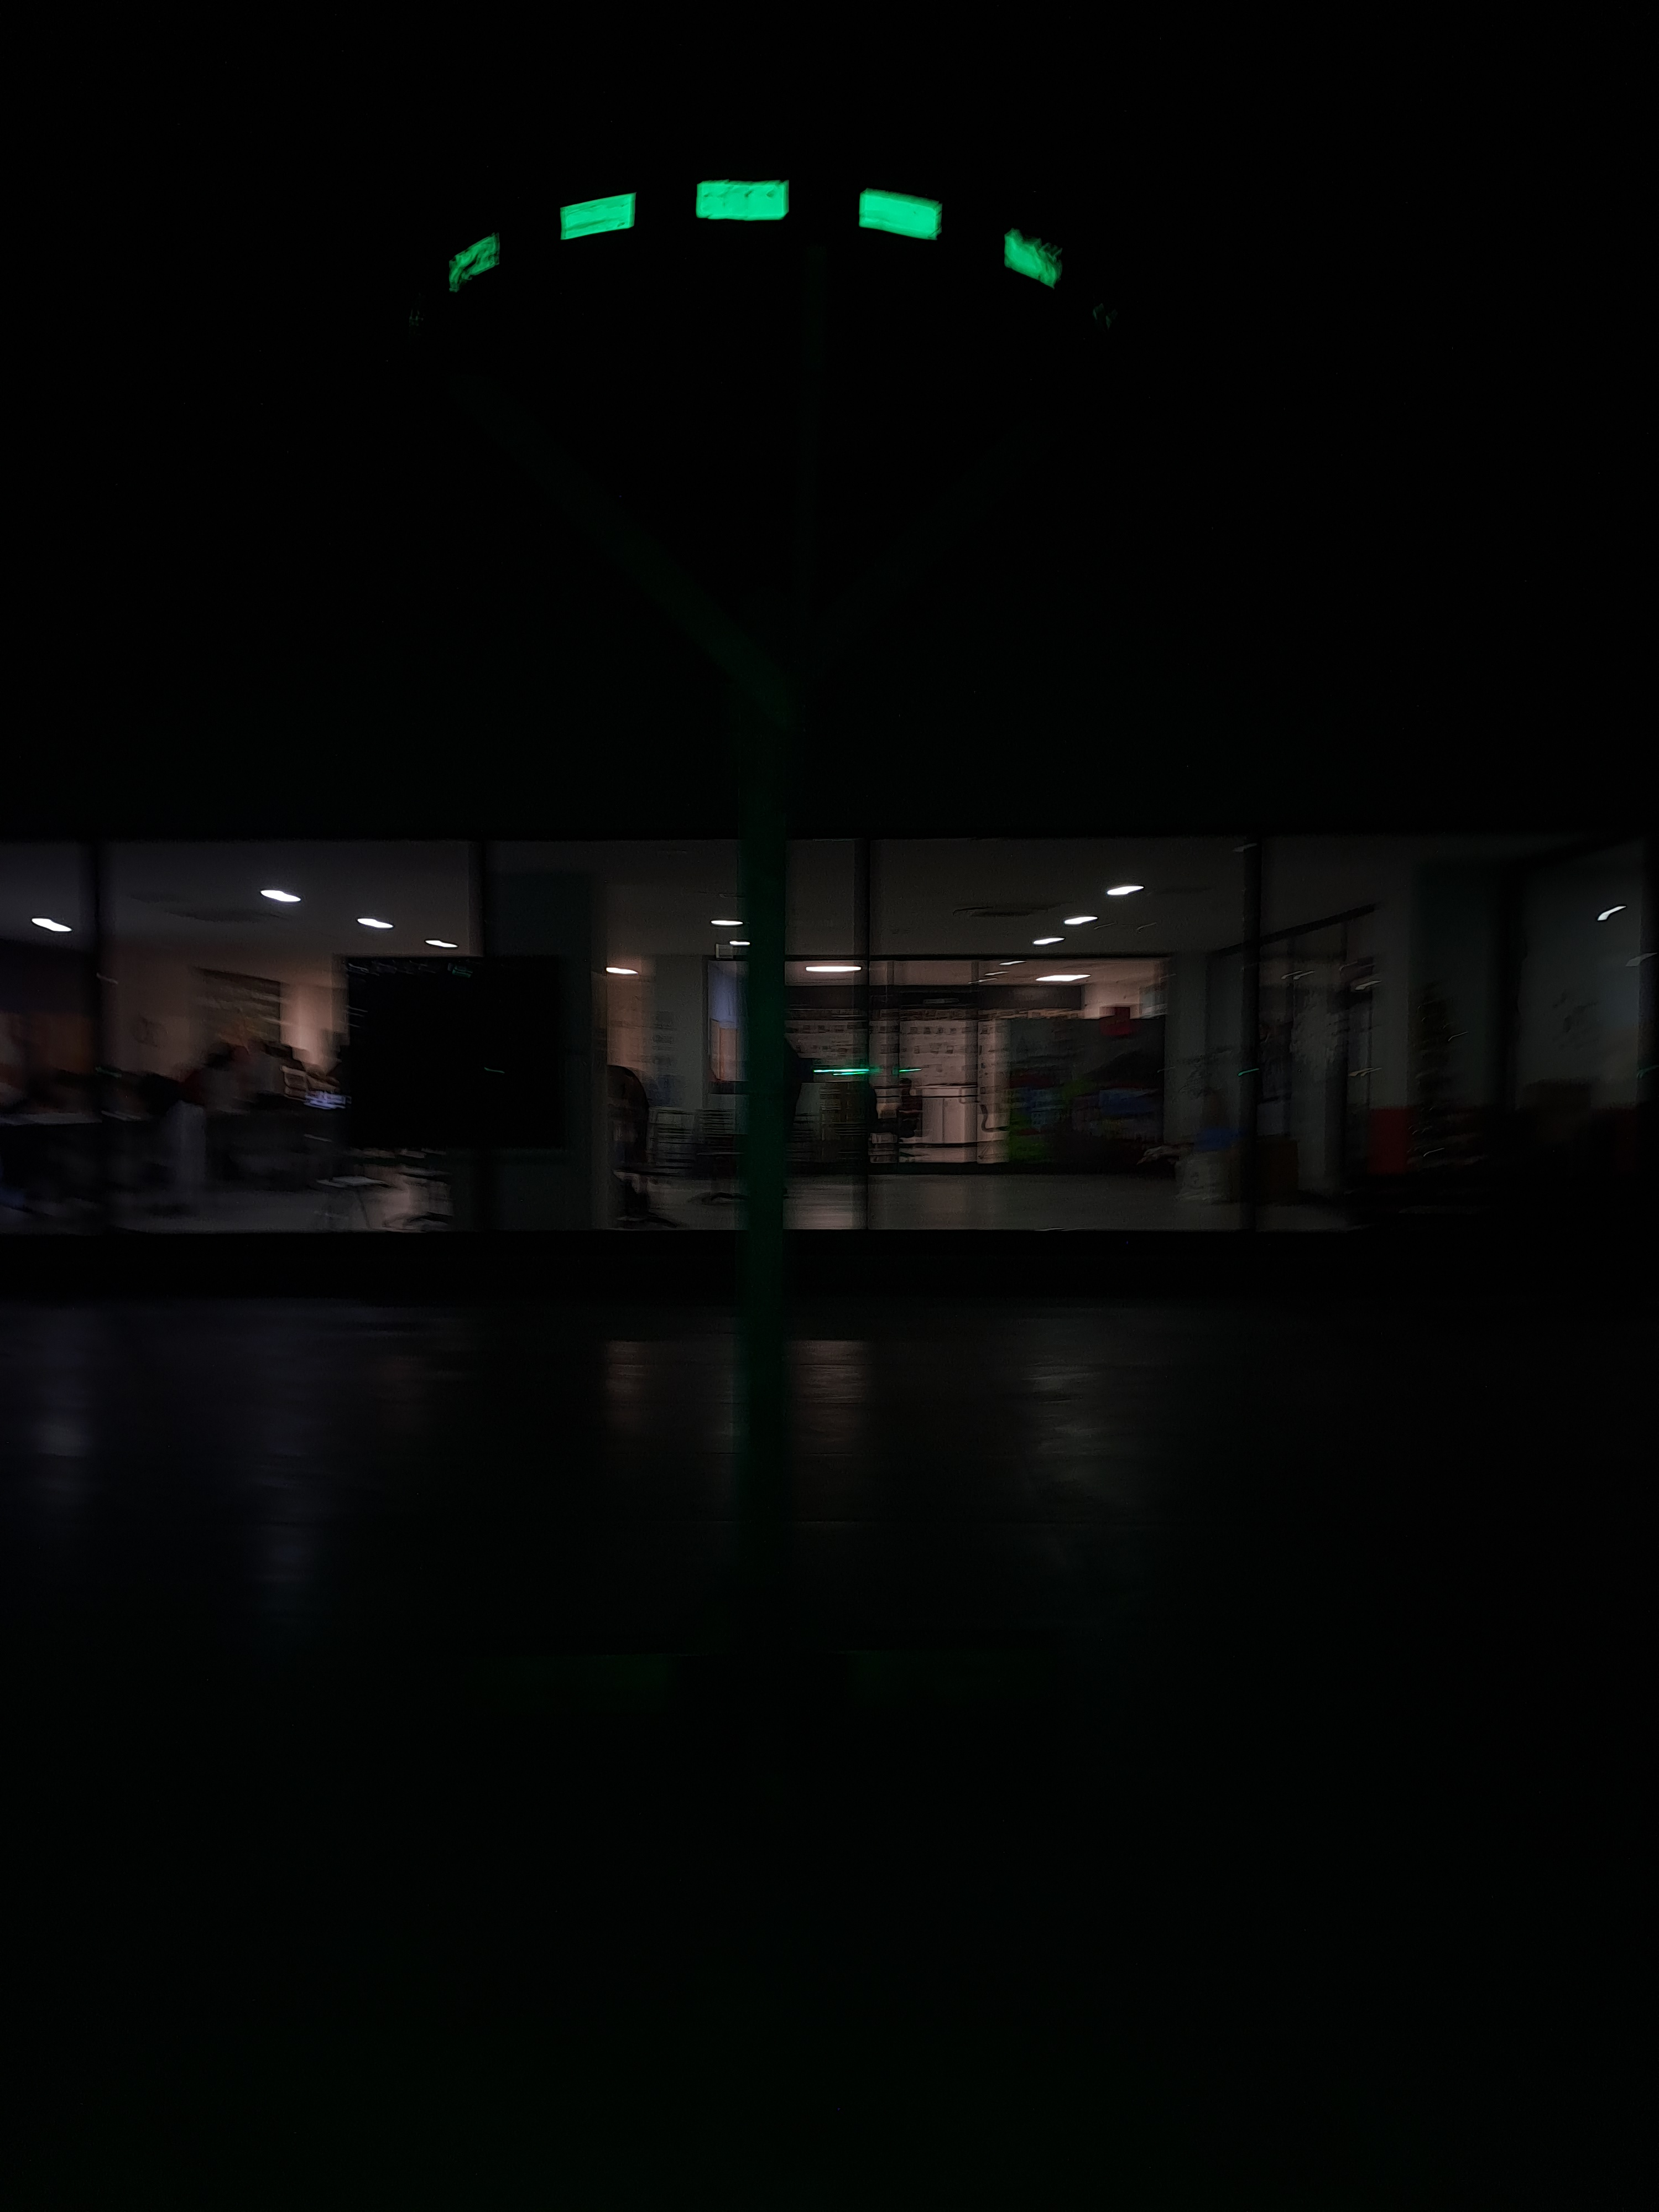hoop: (441, 178, 1063, 294)
